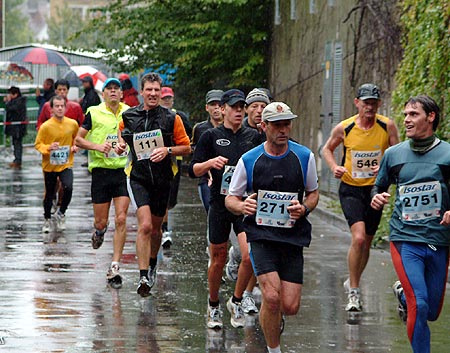person: (226, 102, 321, 353), (373, 96, 450, 353), (320, 84, 402, 315), (189, 92, 263, 329), (114, 74, 191, 296), (74, 78, 135, 291), (36, 97, 81, 234)
